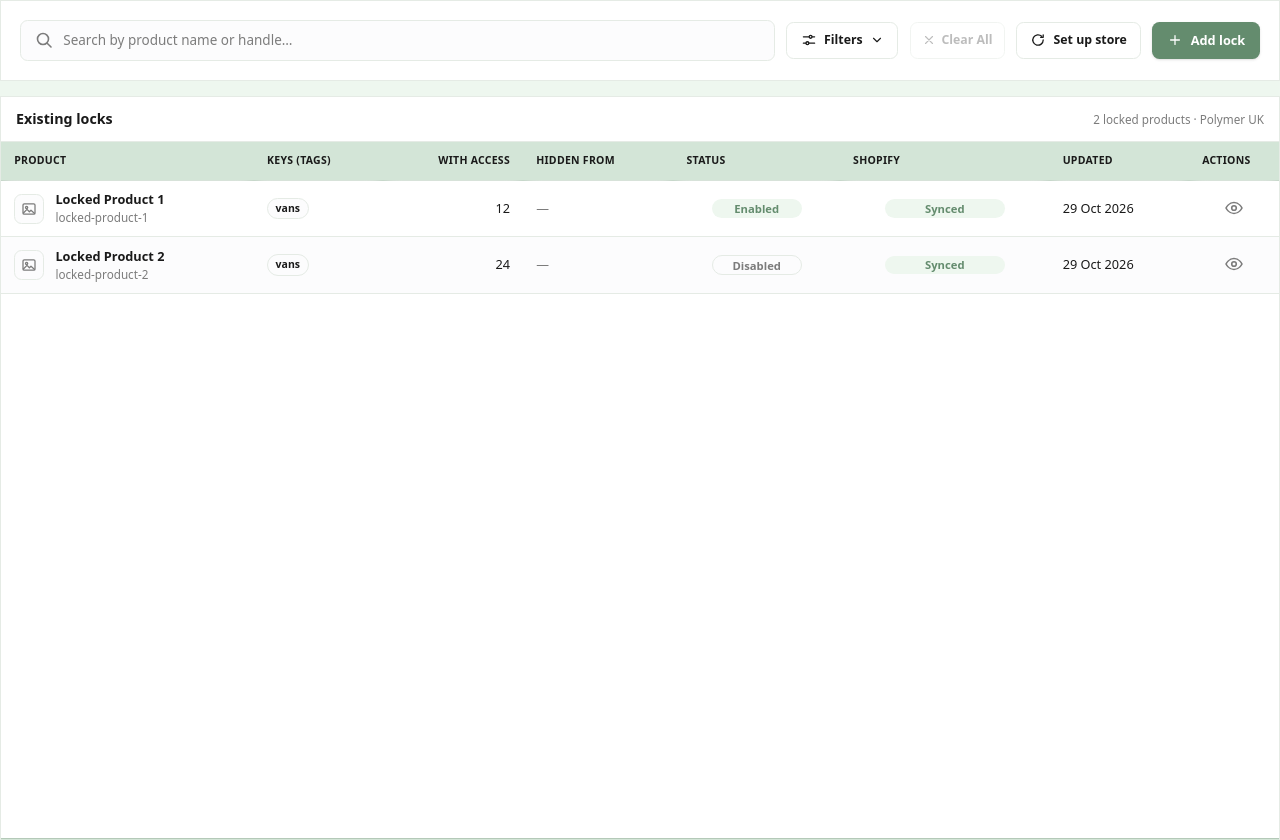
Scenario: LocksPage › Add lock › does not send customers without a tag, and says why
Expected: the button "Locked Product 1" is shown, [55,190,164,209]
Step 1. Click the button "Add lock" → coordinates (1206, 40), box [1152,22,1260,59]
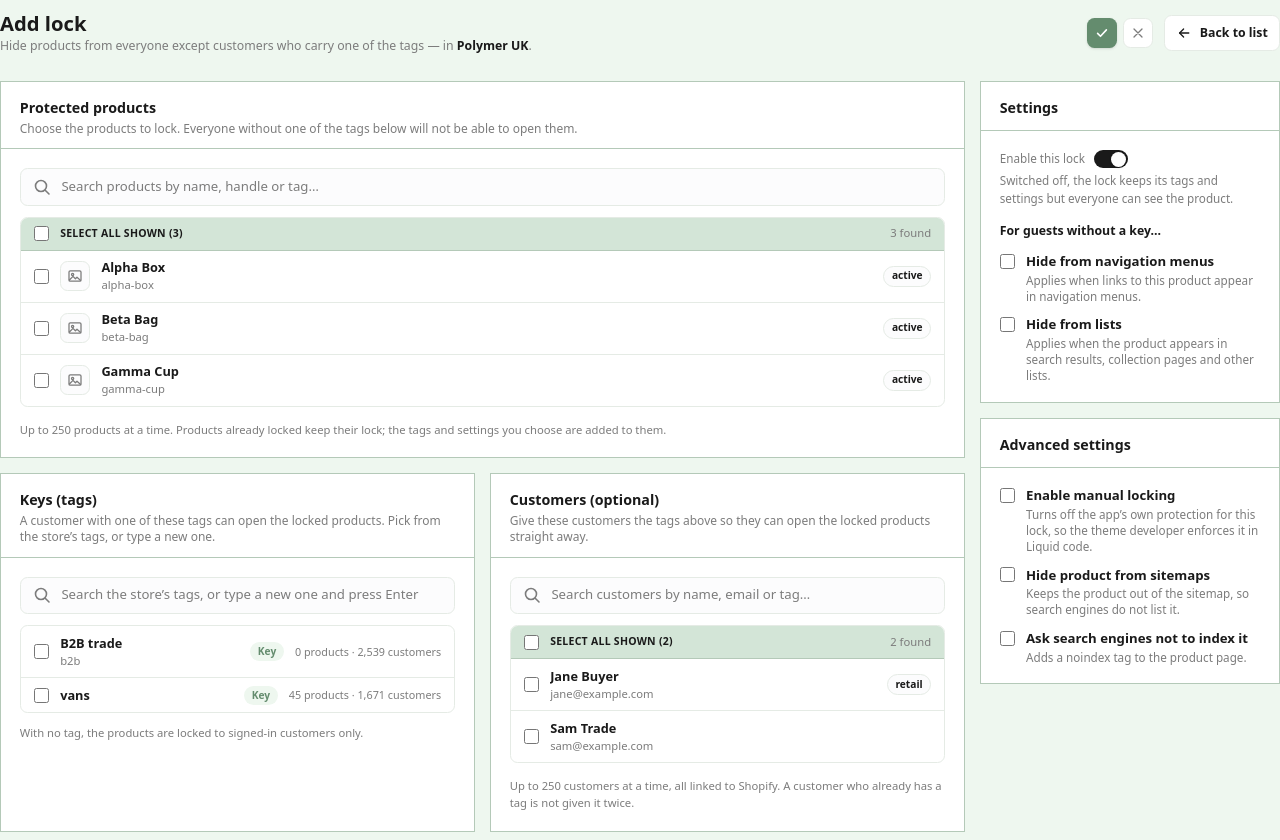
Expected: the heading "Add lock" is shown, [0,9,87,37]
Step 2. Click the checkbox labelled "Sam Trade" → coordinates (531, 737), box [524,729,539,744]
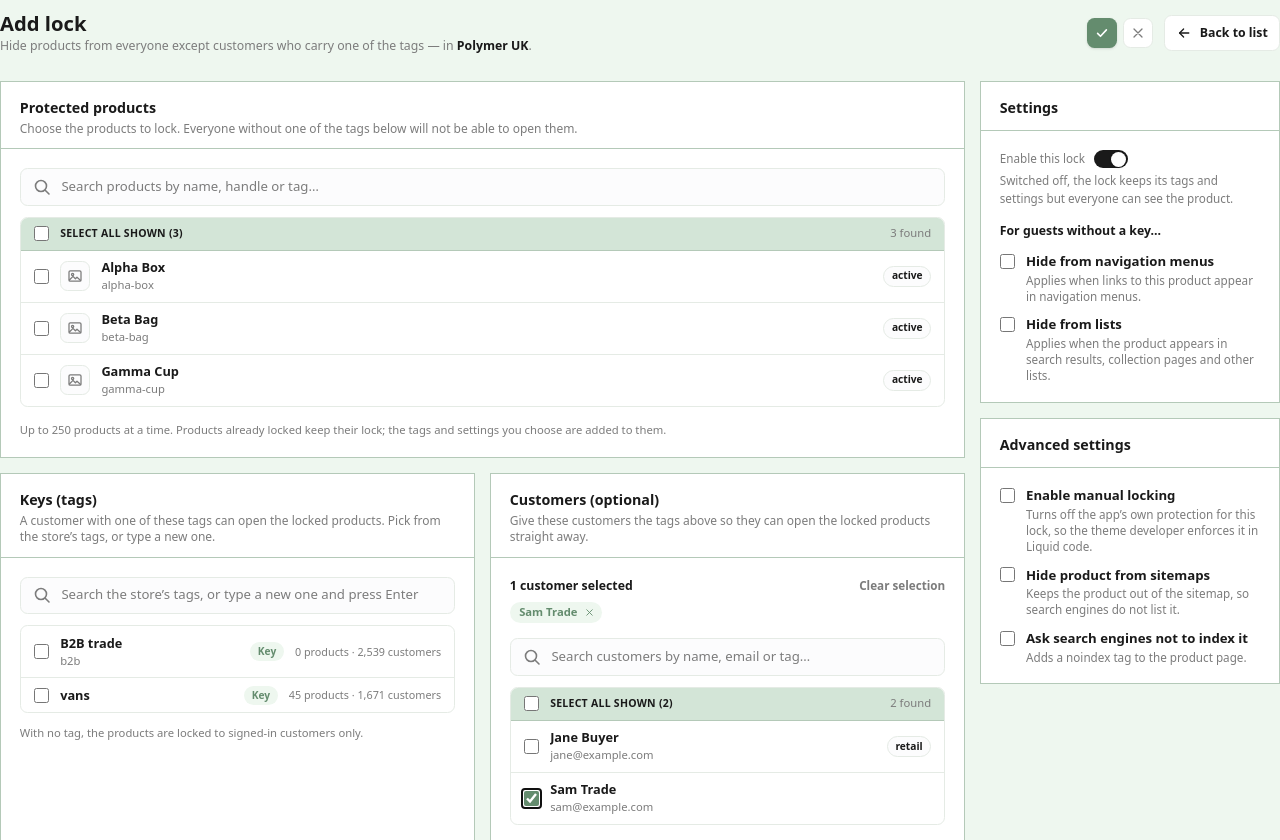
Step 3. Click the button named "Create lock" → coordinates (1102, 33), box [1087,18,1117,48]
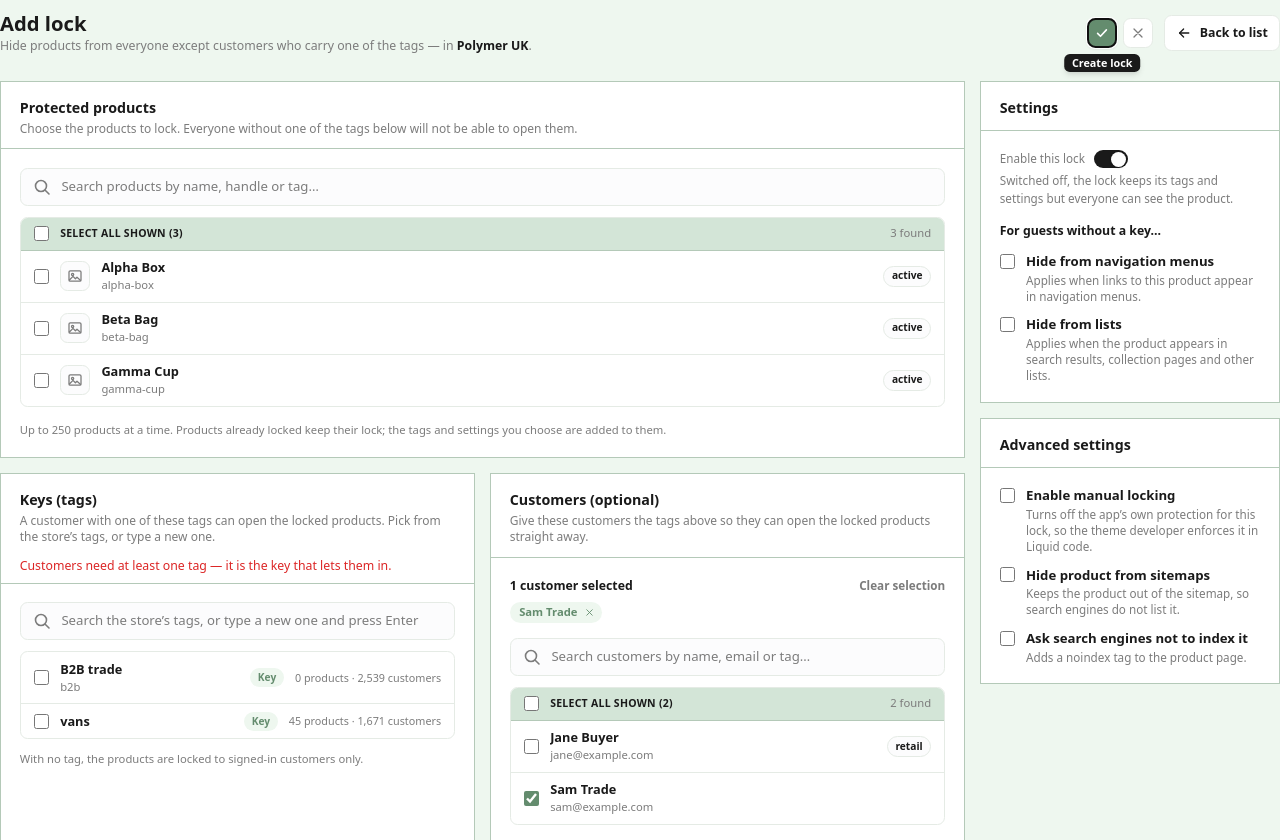
Expected: the text "Customers need at least one tag — it is the key that lets them in." is shown, [20,557,392,574]
